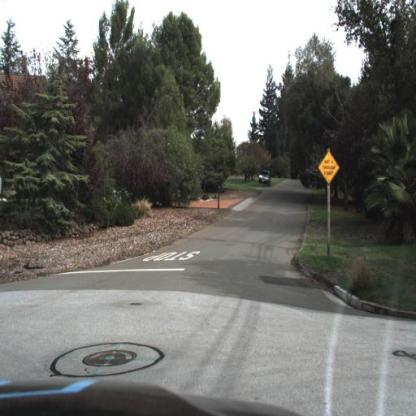car: (257, 166, 275, 190)
